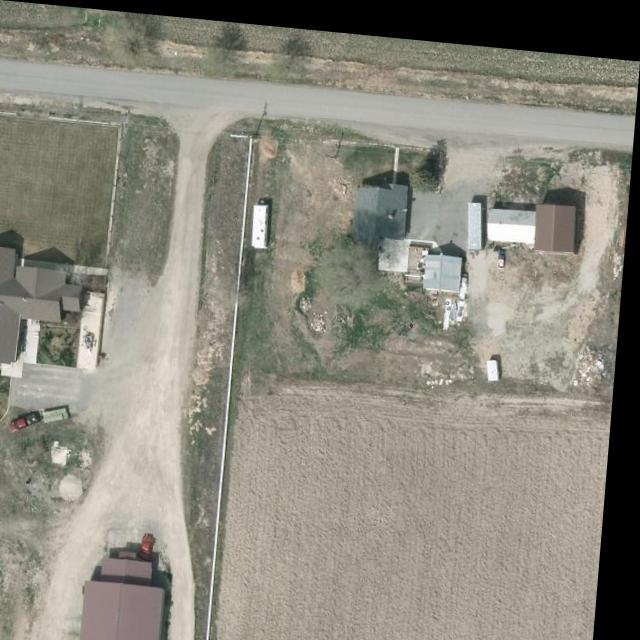vehicle: (14, 409, 47, 435), (147, 531, 164, 559)
